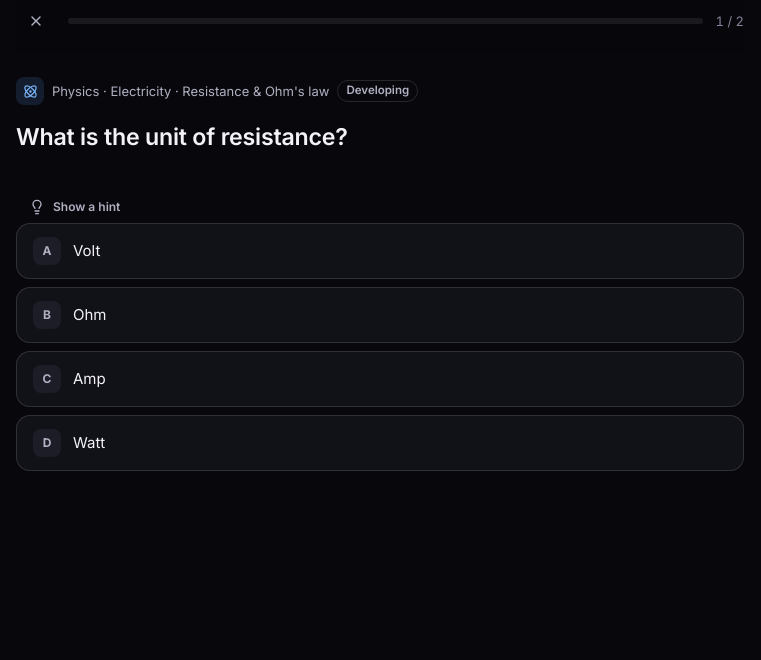
Test: Practice session › shows a hint on request and records that a hint was used
Click the button "Show a hint" at (75, 207), box [16,191,133,223]
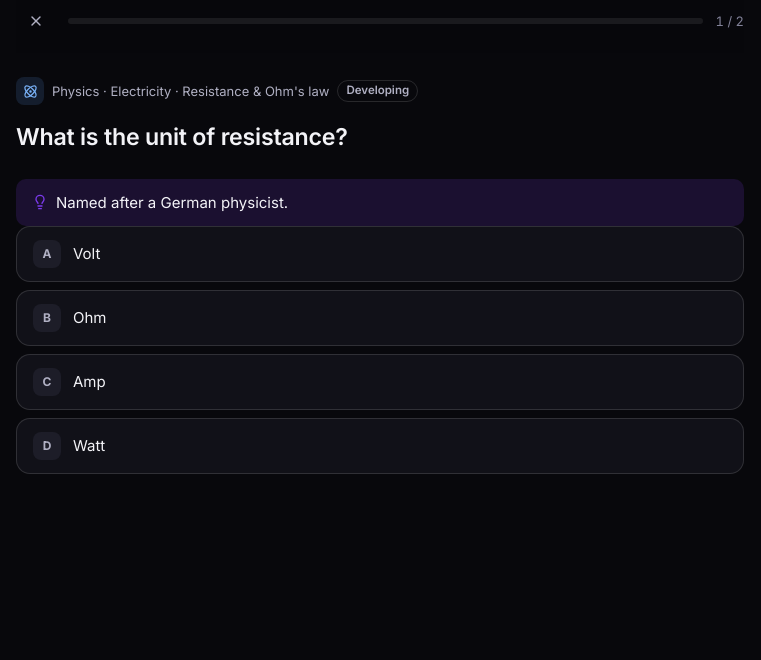
Now the element showing "Named after a German physicist." is shown, box [16,179,744,226]
Click the button "B Ohm" at (90, 318), box [16,290,744,346]
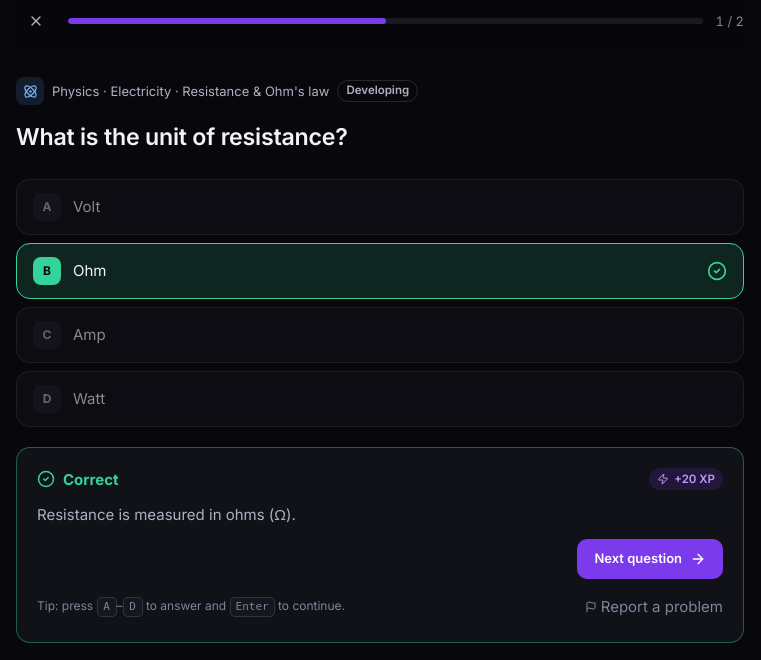
Now the text "+20 XP" is shown, box [649,468,723,490]
